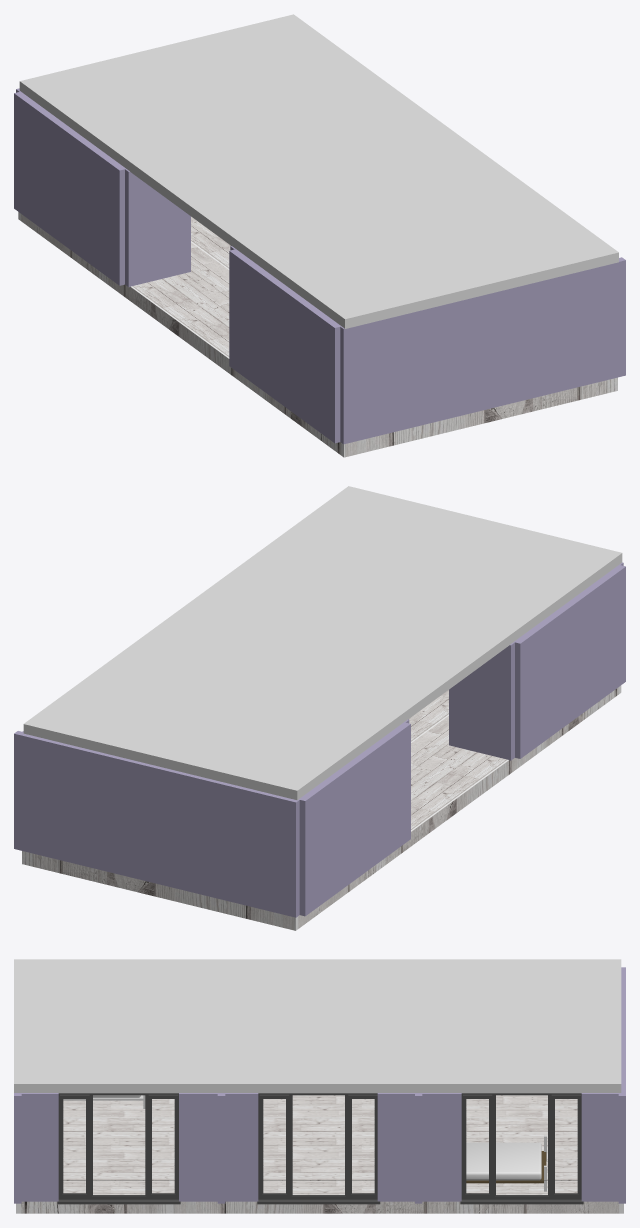
The model's file is bedroom.gltf.glb.
The picture shows the model from 3 angles, top to bottom: view 1: azimuth 30°, elevation 25°; view 2: azimuth 150°, elevation 25°; view 3: azimuth 270°, elevation 25°; orthographic projection. The views are drawn at different scales.
Parts seen in each view (by area): view 1: Ceiling, Cube.013, Cube.015, Cube.006, Floor, Cube.011; view 2: Ceiling, Cube.009, Cube.006, Cube.015, Floor, Cube.001; view 3: Ceiling, Floor, Window, Window.002, Window.001, Bed, Cube.009, Cube.008, Cube.013, Cube.010.
Boxes of the visible parts, x1,y1,x2,y2 form: Ceiling: (19,14,618,328); Cube.013: (340,257,625,444); Cube.015: (229,249,340,443); Cube.006: (14,92,125,285); Floor: (18,212,617,457); Cube.011: (125,169,190,287); Ceiling: (23,486,622,800); Cube.009: (14,731,299,917); Cube.006: (299,722,410,916); Cube.015: (514,565,625,758); Floor: (22,685,621,930); Cube.001: (449,642,514,760); Ceiling: (14,959,621,1093); Floor: (16,1095,623,1213); Window: (421,1092,621,1204); Window.002: (18,1093,219,1204); Window.001: (218,1093,418,1204); Bed: (466,1142,546,1183); Cube.009: (618,967,625,1203); Cube.008: (217,1093,225,1203); Cube.013: (14,1093,21,1203); Cube.010: (415,1093,422,1203).
Bounding box in the file's own units: 6.3 × 2.91 × 12.43.
Materials: 89 (1 with a texture image).
